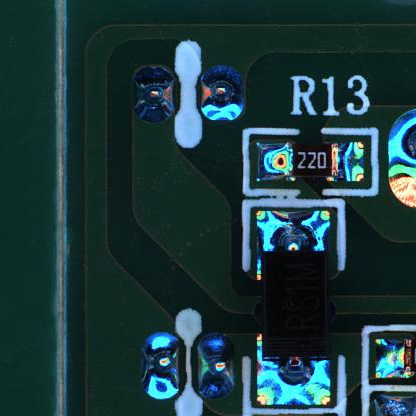spot: (189, 323, 242, 406), (135, 329, 187, 403), (127, 57, 180, 127), (195, 62, 247, 126)
